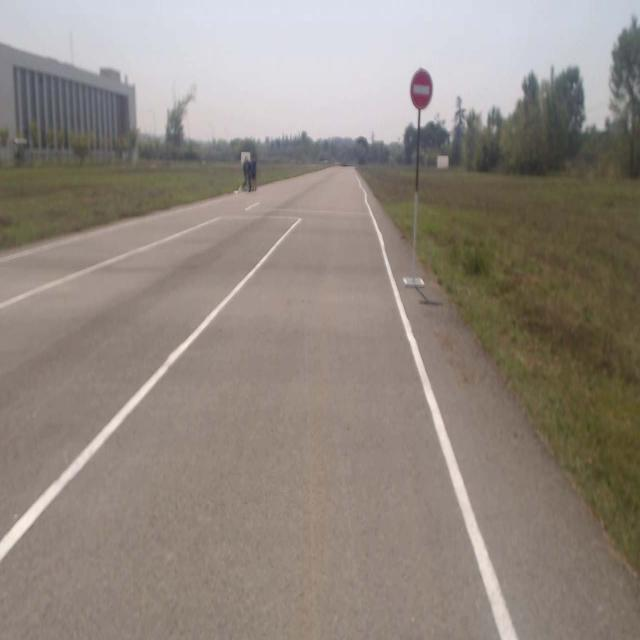girisyok: (410, 70, 432, 108)
